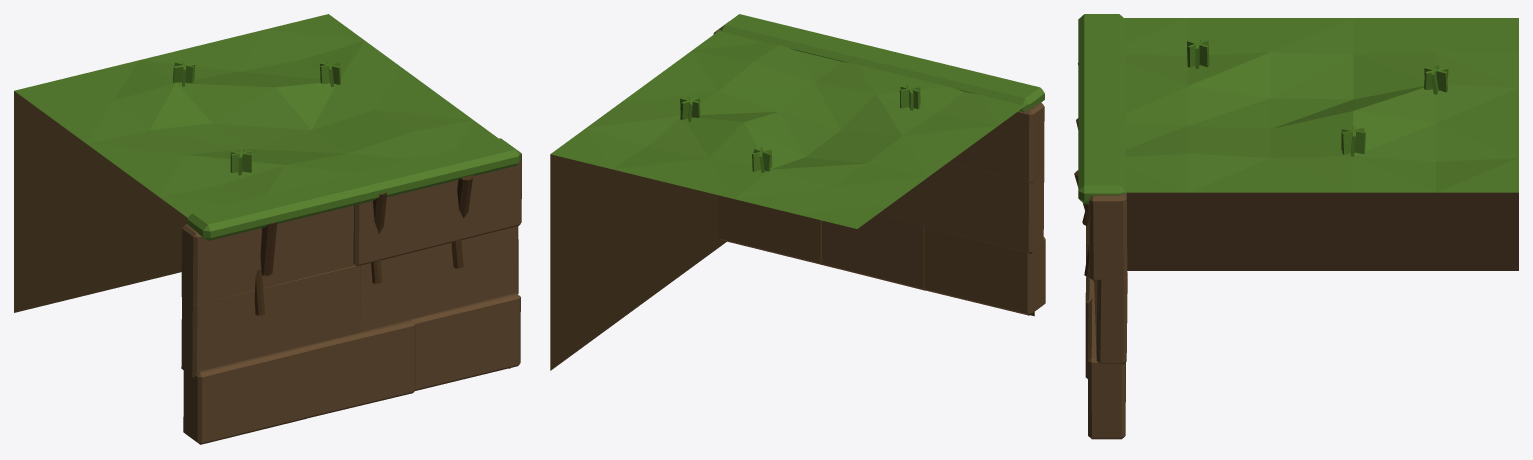
Rendered from SM_Terrain_Rustic_01_Cliff.fbx.
3 renders of one model, left to right at view 1: azimuth 30°, elevation 25°; view 2: azimuth 150°, elevation 25°; view 3: azimuth 270°, elevation 25°, orthographic. The views are drawn at different scales.
Parts seen in each view (by area): view 1: SM_Terrain_Rustic_01_Cliff_Bank, SM_Terrain_Rustic_01_Cliff_Strata10, SM_Terrain_Rustic_01_Cliff_Strata11, SM_Terrain_Rustic_01_Cliff_Lip, SM_Terrain_Rustic_01_Cliff_Strata20, SM_Terrain_Rustic_01_Cliff_Strata21, SM_Terrain_Rustic_01_Cliff_Strata00, SM_Terrain_Rustic_01_Cliff_Strata01, SM_Terrain_Rustic_01_Cliff_Strata02, SM_Terrain_Rustic_01_Cliff_RootA0, SM_Terrain_Rustic_01_Cliff_RootA2; view 2: SM_Terrain_Rustic_01_Cliff_Bank, SM_Terrain_Rustic_01_Cliff_Strata10, SM_Terrain_Rustic_01_Cliff_Strata00, SM_Terrain_Rustic_01_Cliff_Lip, SM_Terrain_Rustic_01_Cliff_Strata01, SM_Terrain_Rustic_01_Cliff_Strata02, SM_Terrain_Rustic_01_Cliff_Strata20; view 3: SM_Terrain_Rustic_01_Cliff_Bank, SM_Terrain_Rustic_01_Cliff_Lip, SM_Terrain_Rustic_01_Cliff_Strata02, SM_Terrain_Rustic_01_Cliff_Strata21, SM_Terrain_Rustic_01_Cliff_Strata11, SM_Terrain_Rustic_01_Cliff_Strata01.
Boxes of the visible parts, bbox=[...] form: SM_Terrain_Rustic_01_Cliff_Bank: bbox=[14, 14, 510, 368]; SM_Terrain_Rustic_01_Cliff_Strata10: bbox=[181, 265, 360, 377]; SM_Terrain_Rustic_01_Cliff_Strata11: bbox=[360, 226, 518, 332]; SM_Terrain_Rustic_01_Cliff_Lip: bbox=[187, 138, 520, 240]; SM_Terrain_Rustic_01_Cliff_Strata20: bbox=[181, 205, 355, 304]; SM_Terrain_Rustic_01_Cliff_Strata21: bbox=[353, 149, 521, 266]; SM_Terrain_Rustic_01_Cliff_Strata00: bbox=[183, 346, 308, 444]; SM_Terrain_Rustic_01_Cliff_Strata01: bbox=[306, 320, 415, 418]; SM_Terrain_Rustic_01_Cliff_Strata02: bbox=[410, 293, 520, 390]; SM_Terrain_Rustic_01_Cliff_RootA0: bbox=[260, 222, 277, 275]; SM_Terrain_Rustic_01_Cliff_RootA2: bbox=[457, 175, 472, 218]; SM_Terrain_Rustic_01_Cliff_Bank: bbox=[550, 30, 1034, 370]; SM_Terrain_Rustic_01_Cliff_Strata10: bbox=[876, 163, 1044, 253]; SM_Terrain_Rustic_01_Cliff_Strata00: bbox=[924, 227, 1045, 315]; SM_Terrain_Rustic_01_Cliff_Lip: bbox=[719, 14, 1044, 111]; SM_Terrain_Rustic_01_Cliff_Strata01: bbox=[821, 215, 925, 290]; SM_Terrain_Rustic_01_Cliff_Strata02: bbox=[718, 195, 822, 264]; SM_Terrain_Rustic_01_Cliff_Strata20: bbox=[948, 102, 1044, 182]; SM_Terrain_Rustic_01_Cliff_Bank: bbox=[1122, 18, 1518, 270]; SM_Terrain_Rustic_01_Cliff_Lip: bbox=[1078, 14, 1125, 204]; SM_Terrain_Rustic_01_Cliff_Strata02: bbox=[1088, 298, 1125, 439]; SM_Terrain_Rustic_01_Cliff_Strata21: bbox=[1088, 192, 1127, 281]; SM_Terrain_Rustic_01_Cliff_Strata11: bbox=[1094, 272, 1127, 364]; SM_Terrain_Rustic_01_Cliff_Strata01: bbox=[1085, 242, 1094, 378].
Bounding box in the file's own units: 2.08 × 1.47 × 2.15.
